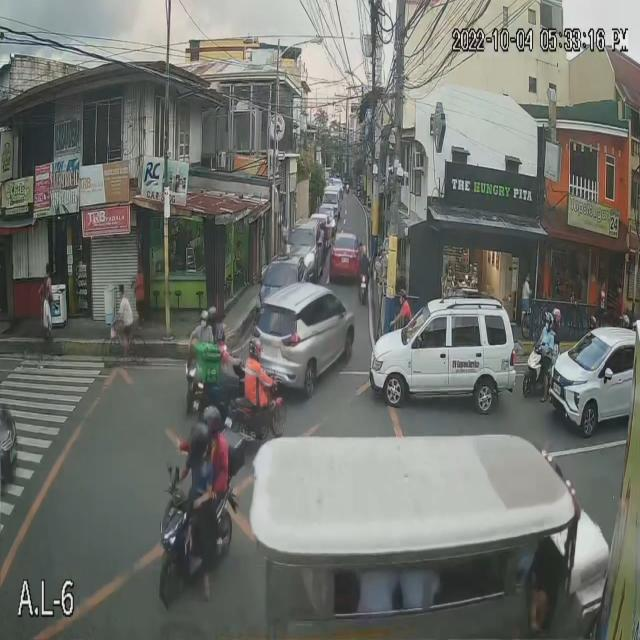full: (187, 422, 211, 462), (200, 404, 223, 435), (247, 335, 263, 365)
half: (543, 310, 552, 332), (552, 305, 562, 324)
invalid: (208, 301, 216, 317), (198, 308, 208, 320)
